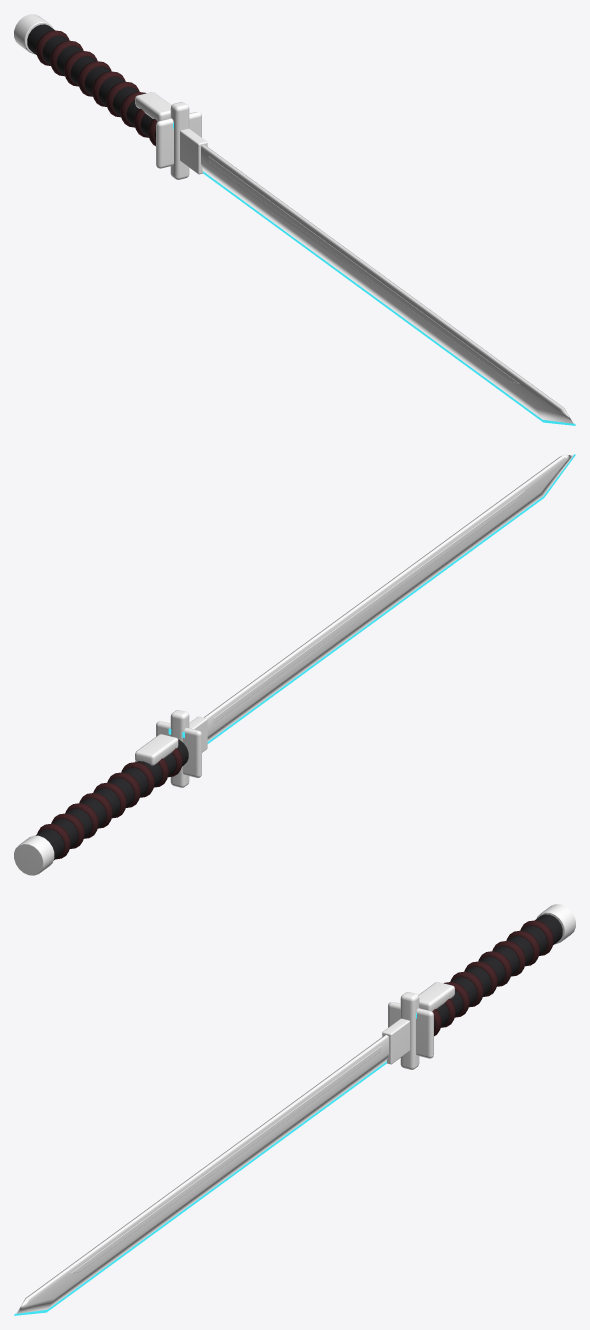
File: katana.glb
3 views of the same model, one above another, from view 1: azimuth 30°, elevation 25°; view 2: azimuth 150°, elevation 25°; view 3: azimuth 330°, elevation 25° (orthographic).
Parts seen in each view (by area): view 1: blade, handle, fuller, guard_plate, edge_glow, guard, habaki, power_cell, pommel; view 2: blade, handle, fuller, pommel, edge_glow, guard_plate, power_cell, guard; view 3: blade, handle, fuller, guard_plate, edge_glow, guard, habaki, power_cell, pommel.
Part boxes in pixels (x1=…): blade: x1=201, y1=145, x2=573, y2=423; handle: x1=27, y1=24, x2=155, y2=140; fuller: x1=208, y1=156, x2=519, y2=383; guard_plate: x1=156, y1=112, x2=201, y2=168; edge_glow: x1=203, y1=171, x2=575, y2=425; guard: x1=170, y1=102, x2=189, y2=179; habaki: x1=180, y1=128, x2=207, y2=174; power_cell: x1=135, y1=92, x2=171, y2=121; pommel: x1=14, y1=14, x2=53, y2=54; blade: x1=204, y1=454, x2=573, y2=741; handle: x1=35, y1=739, x2=188, y2=860; fuller: x1=213, y1=491, x2=524, y2=723; pommel: x1=14, y1=835, x2=54, y2=875; edge_glow: x1=207, y1=454, x2=575, y2=743; guard_plate: x1=156, y1=721, x2=201, y2=777; power_cell: x1=135, y1=734, x2=178, y2=765; guard: x1=170, y1=710, x2=189, y2=787; blade: x1=16, y1=1035, x2=388, y2=1313; handle: x1=434, y1=914, x2=562, y2=1030; fuller: x1=70, y1=1046, x2=381, y2=1273; guard_plate: x1=388, y1=1002, x2=433, y2=1058; edge_glow: x1=14, y1=1061, x2=386, y2=1315; guard: x1=400, y1=992, x2=419, y2=1069; habaki: x1=382, y1=1018, x2=409, y2=1064; power_cell: x1=418, y1=982, x2=454, y2=1011; pommel: x1=536, y1=904, x2=575, y2=944.
Bounding box in the file's own units: 0.05 × 0.078 × 1.05.
